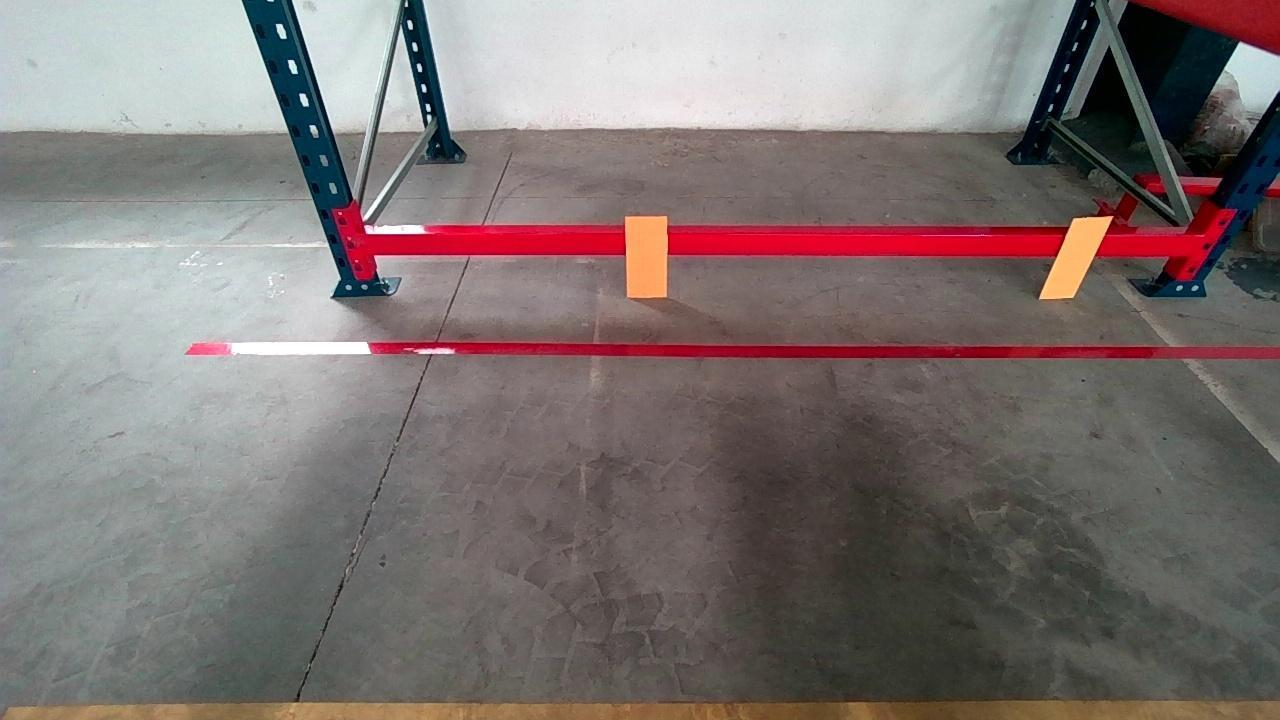h_rack: (367, 223, 1185, 265)
orange_strip: (1040, 216, 1115, 297), (626, 214, 669, 296)
red_line: (192, 336, 1268, 364)
yellow_line: (10, 677, 1280, 720)
